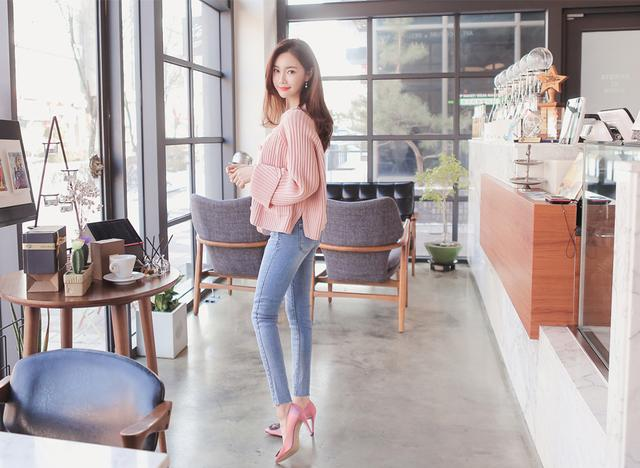person: (218, 24, 377, 413)
